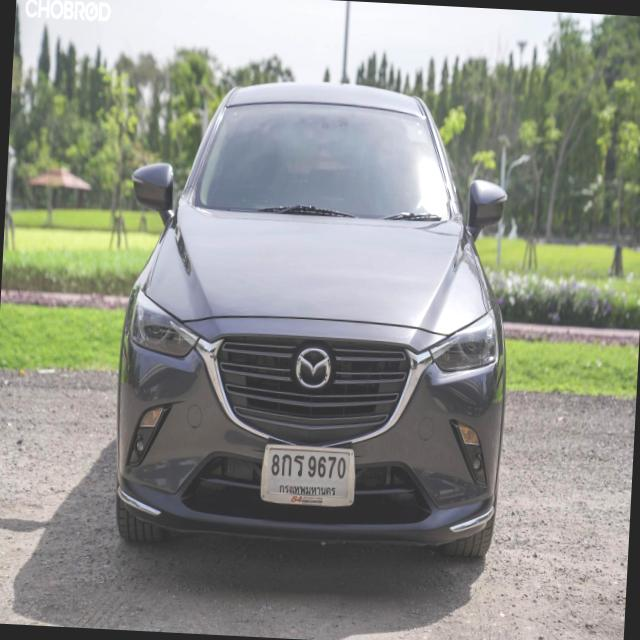license_plate: (258, 436, 360, 515)
